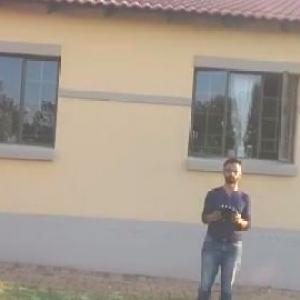follow: (184, 142, 256, 299)
